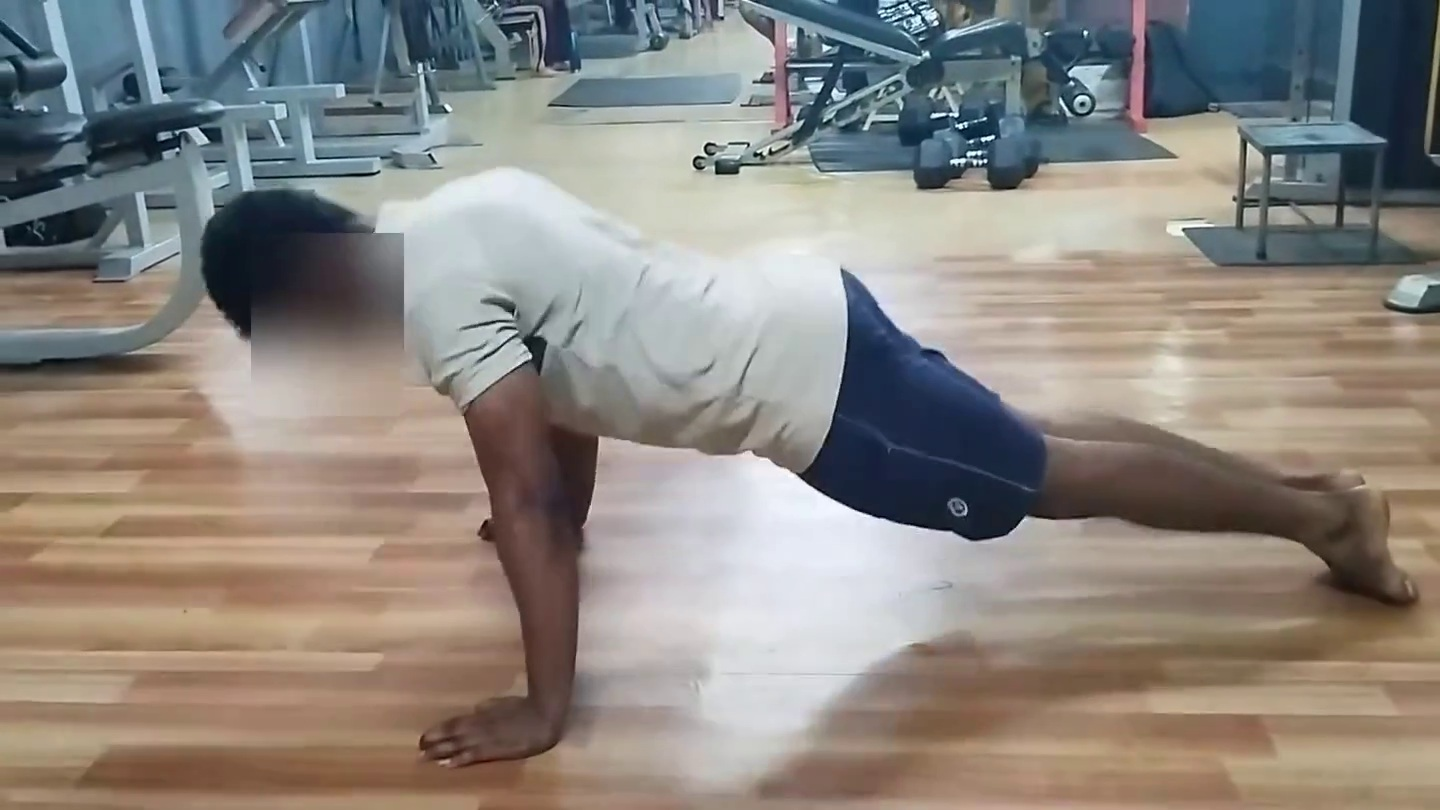push_up_correct: (196, 124, 1440, 810)
